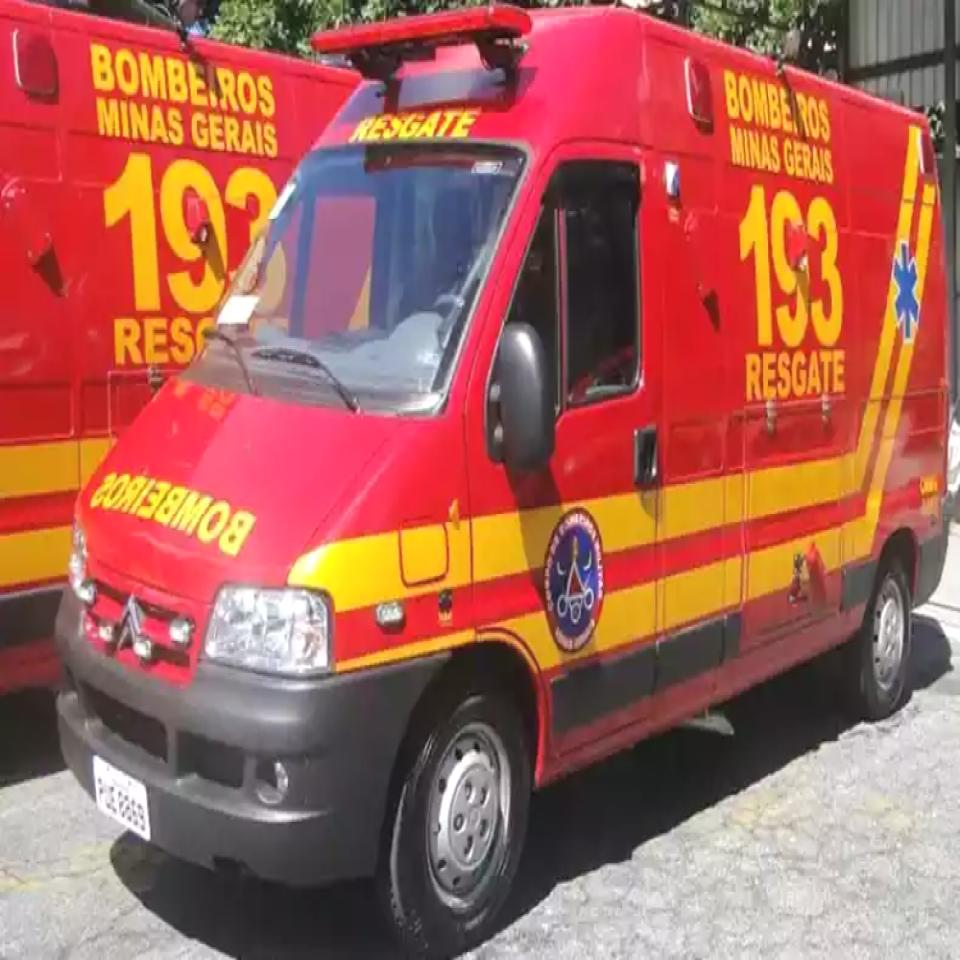bombeiro: (53, 0, 951, 960)
